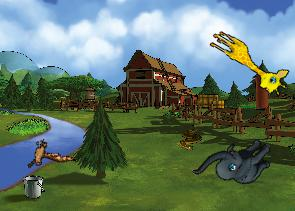eagle: (18, 129, 76, 181)
elephant: (191, 118, 279, 207)
giraffe: (201, 27, 294, 99)
